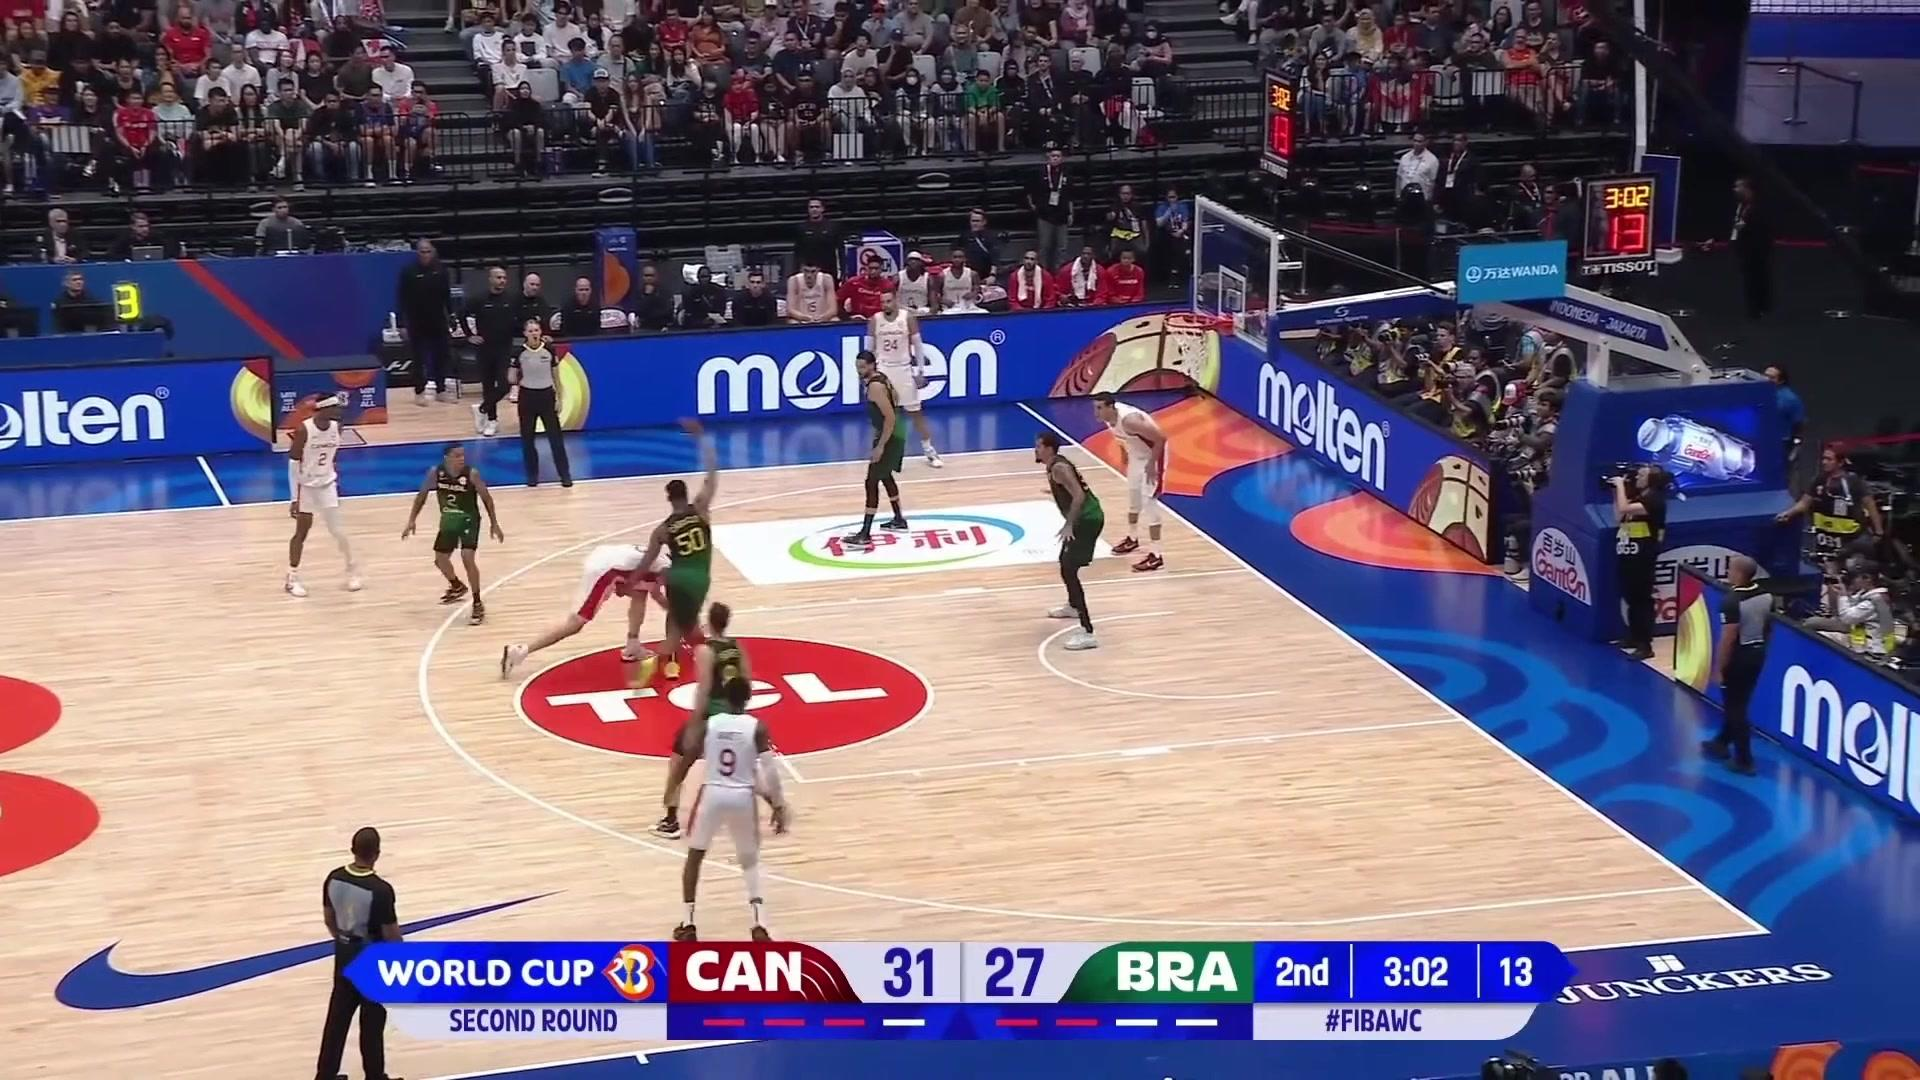foul: (501, 443, 731, 686)
